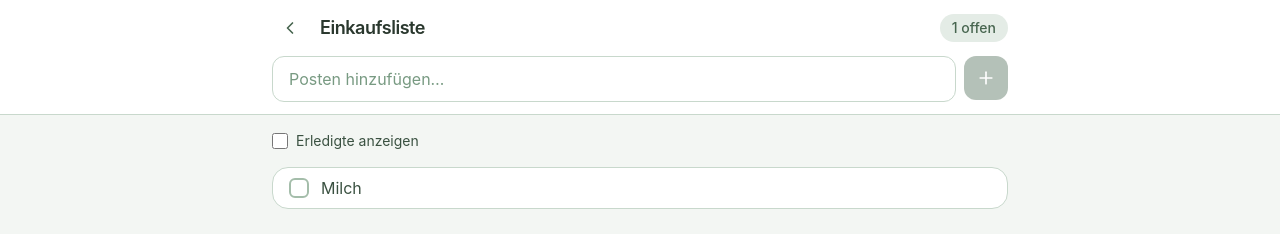
Einkaufsliste-Detailseite › Escape cancels the inline edit without saving
Click the button "Milch" at [341, 188], box [321,176,991,200]
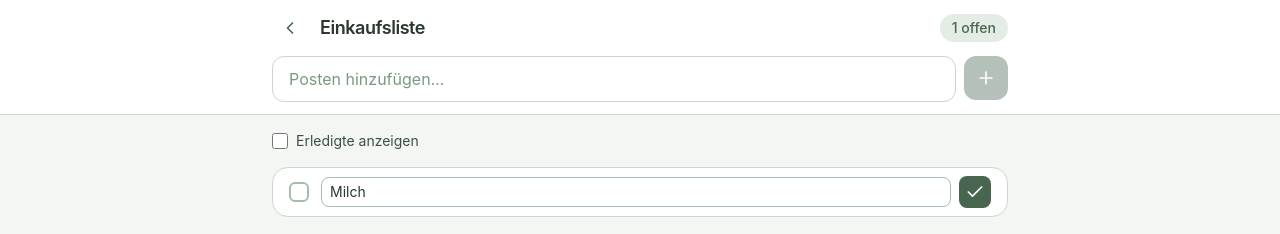
Replace the text in the 2nd field with "Hafermilch" at [636, 192], box [321,177,951,207]
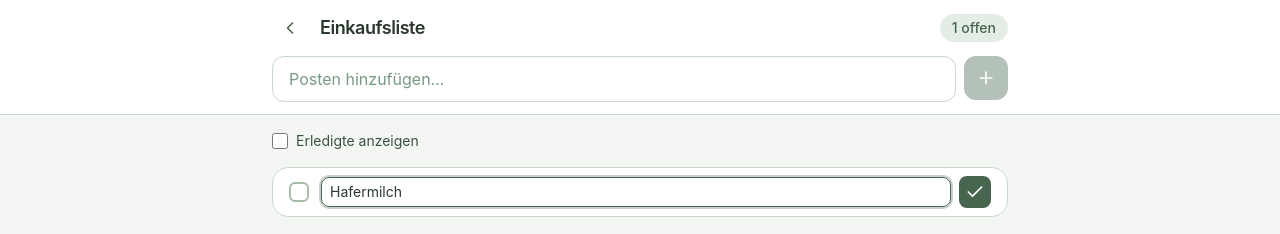
Press Escape
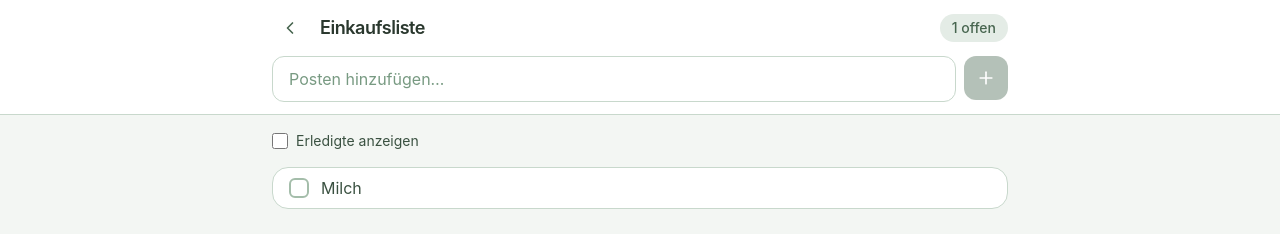
Expected: the button "Milch" is shown, [321,176,991,200]
